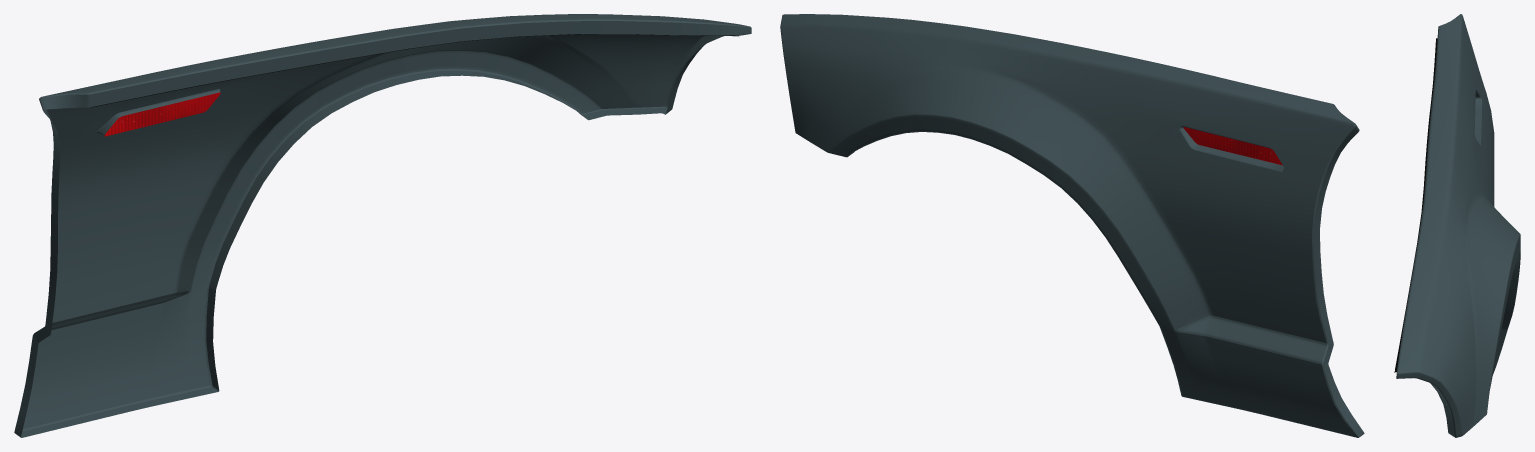
3 renders of one model, left to right at view 1: azimuth 30°, elevation 25°; view 2: azimuth 150°, elevation 25°; view 3: azimuth 270°, elevation 25°, orthographic. The views are drawn at different scales.
Parts seen in each view (by area): view 1: P222_15_121B_L_P222_15_121B_L_1_DaS, P222_15_121B_L_P222_15_121B_L_1_DaS_E, P222_15_121B_L_P222_15_121B_L_3_D; view 2: P222_15_121B_L_P222_15_121B_L_1_DaS, P222_15_121B_L_P222_15_121B_L_1_DaS_E, P222_15_121B_L_P222_15_121B_L_3_D; view 3: P222_15_121B_L_P222_15_121B_L_1_DaS, P222_15_121B_L_P222_15_121B_L_1_DaS_E, P222_15_121B_L_2_D_P222_15_121B_L.
Part boxes in pixels (x1,y1,x2,y2): P222_15_121B_L_P222_15_121B_L_1_DaS: (14, 14, 751, 437); P222_15_121B_L_P222_15_121B_L_1_DaS_E: (22, 19, 750, 431); P222_15_121B_L_P222_15_121B_L_3_D: (104, 92, 220, 136); P222_15_121B_L_P222_15_121B_L_1_DaS: (780, 14, 1364, 437); P222_15_121B_L_P222_15_121B_L_1_DaS_E: (784, 14, 1358, 437); P222_15_121B_L_P222_15_121B_L_3_D: (1183, 127, 1282, 165); P222_15_121B_L_P222_15_121B_L_1_DaS: (1396, 14, 1520, 437); P222_15_121B_L_P222_15_121B_L_1_DaS_E: (1396, 14, 1520, 437); P222_15_121B_L_2_D_P222_15_121B_L: (1394, 38, 1437, 372).
Size of the model in its own units: 146 by 69.71 by 25.75.
